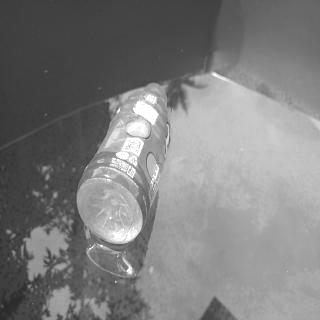bottle: (74, 79, 173, 248)
